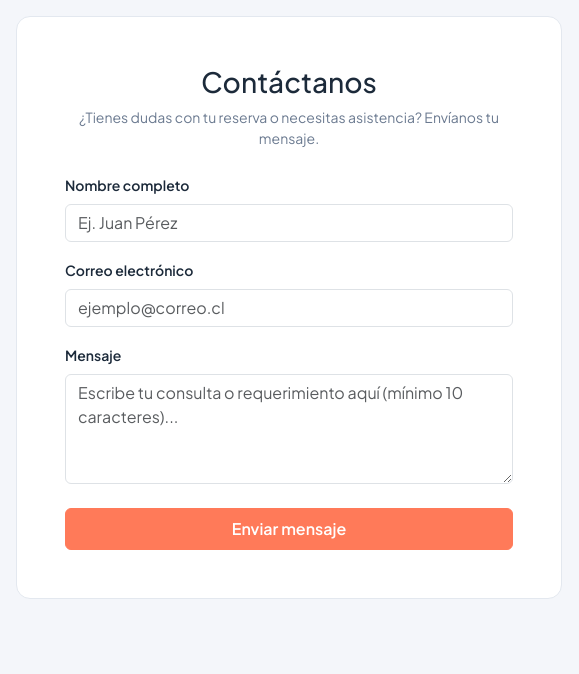
Test case: Pruebas Unitarias - Páginas Públicas (Estudiante 2) › muestra mensaje de error en Contacto si se envía el formulario vacío
This screenshot has width=579, height=674.
Click the button "Enviar mensaje": [289, 529] box [65,508,513,550]
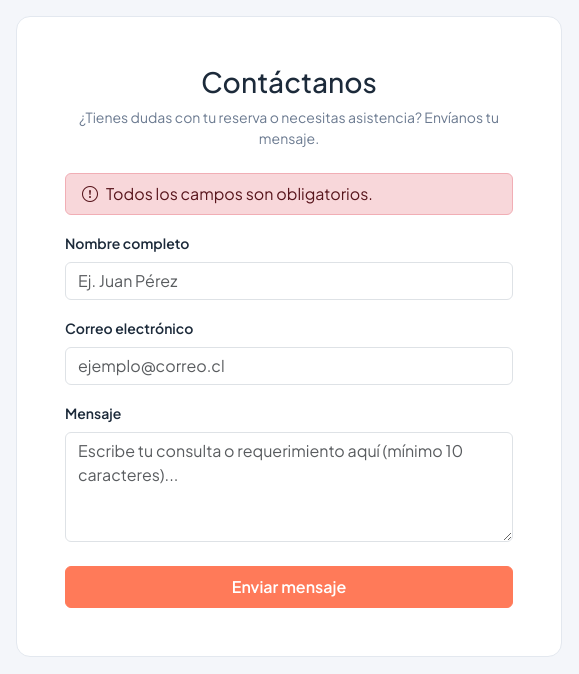
Expected: the text "Todos los campos son obligatorios." is shown, [65,173,513,215]
